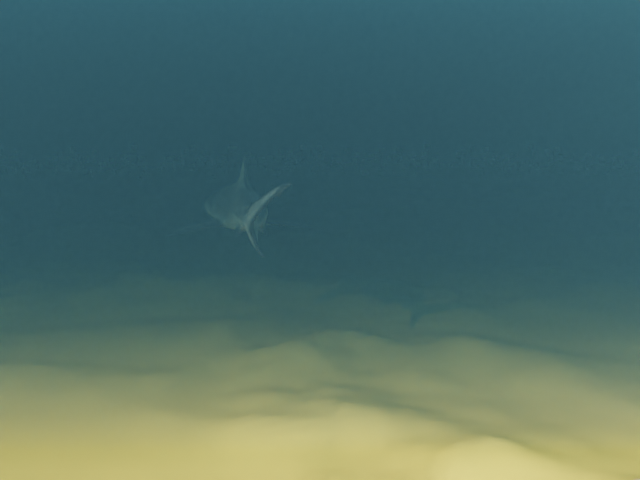Carribean Shark.001: (166, 156, 315, 258)
